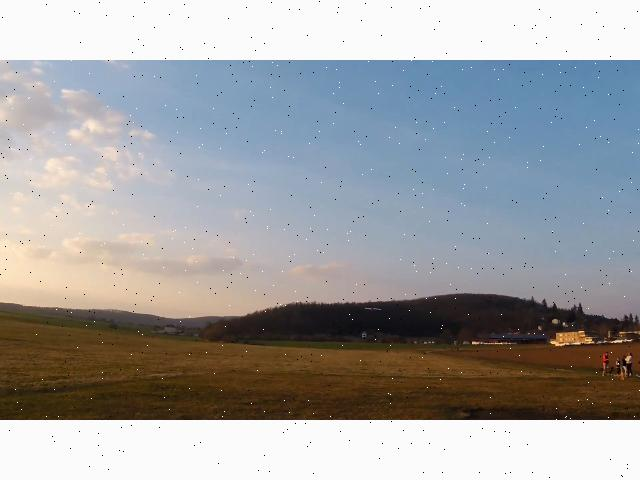Anti-Drone: (364, 308, 380, 310)
